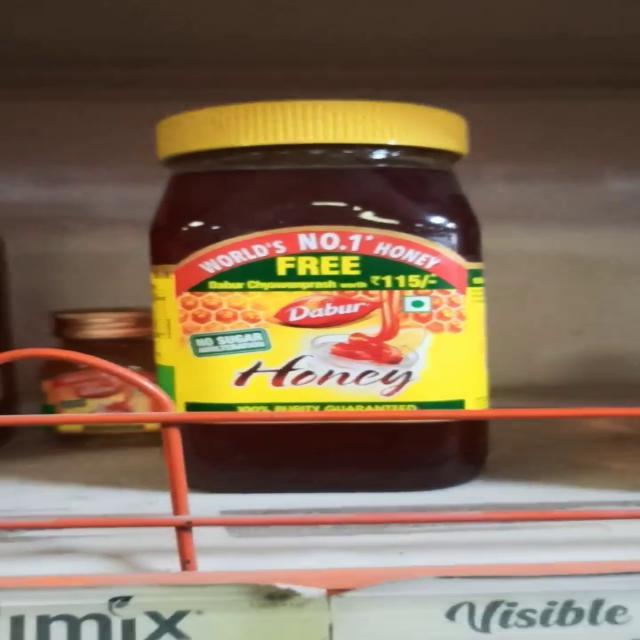Dabur Honey: (145, 86, 492, 496)
